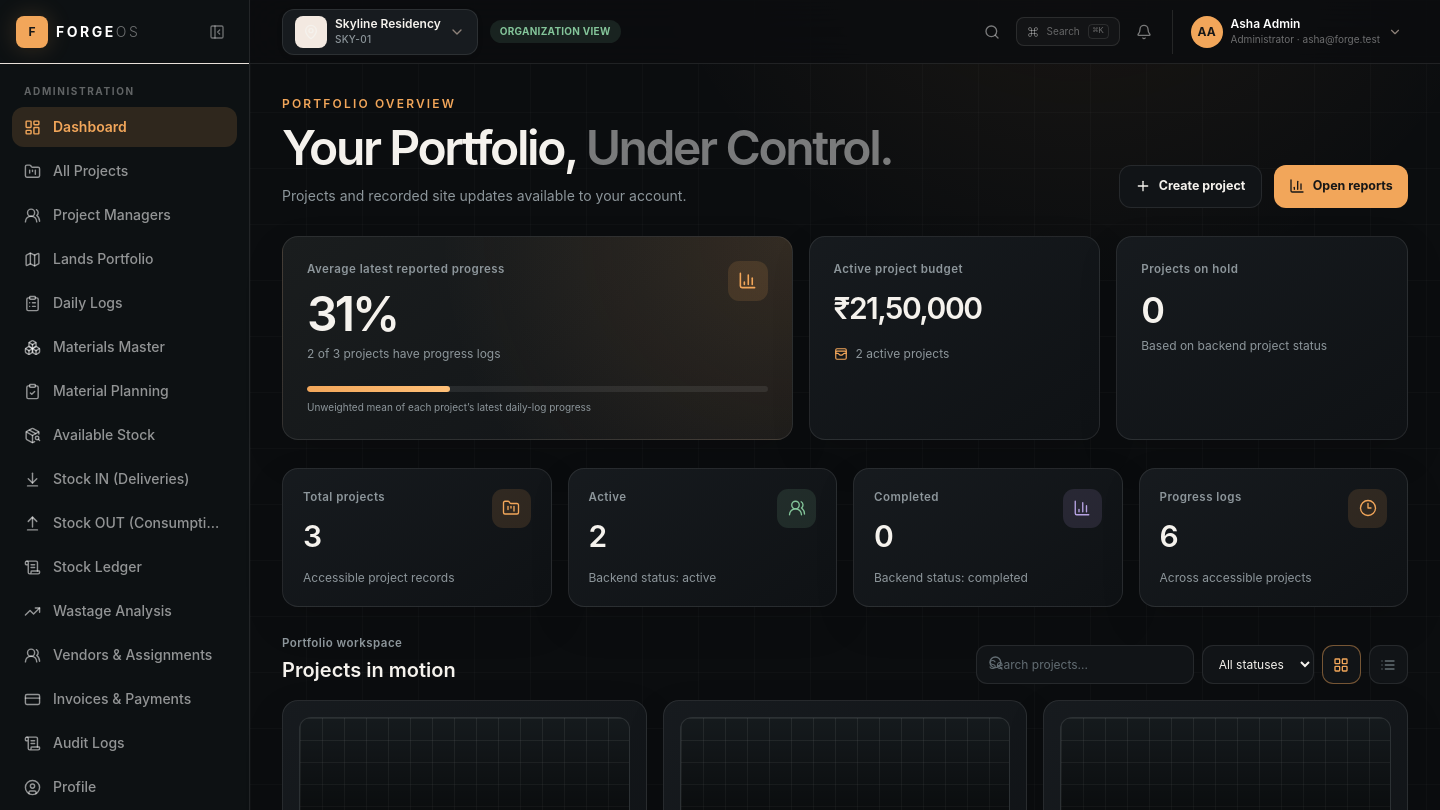
Scenario: AdminDashboardPage › the status filter and Clear filters work together
The image size is (1440, 810).
Select "Active" in the dropdown showing "All statuses" at [1258, 665], box [1202,645,1314,684]
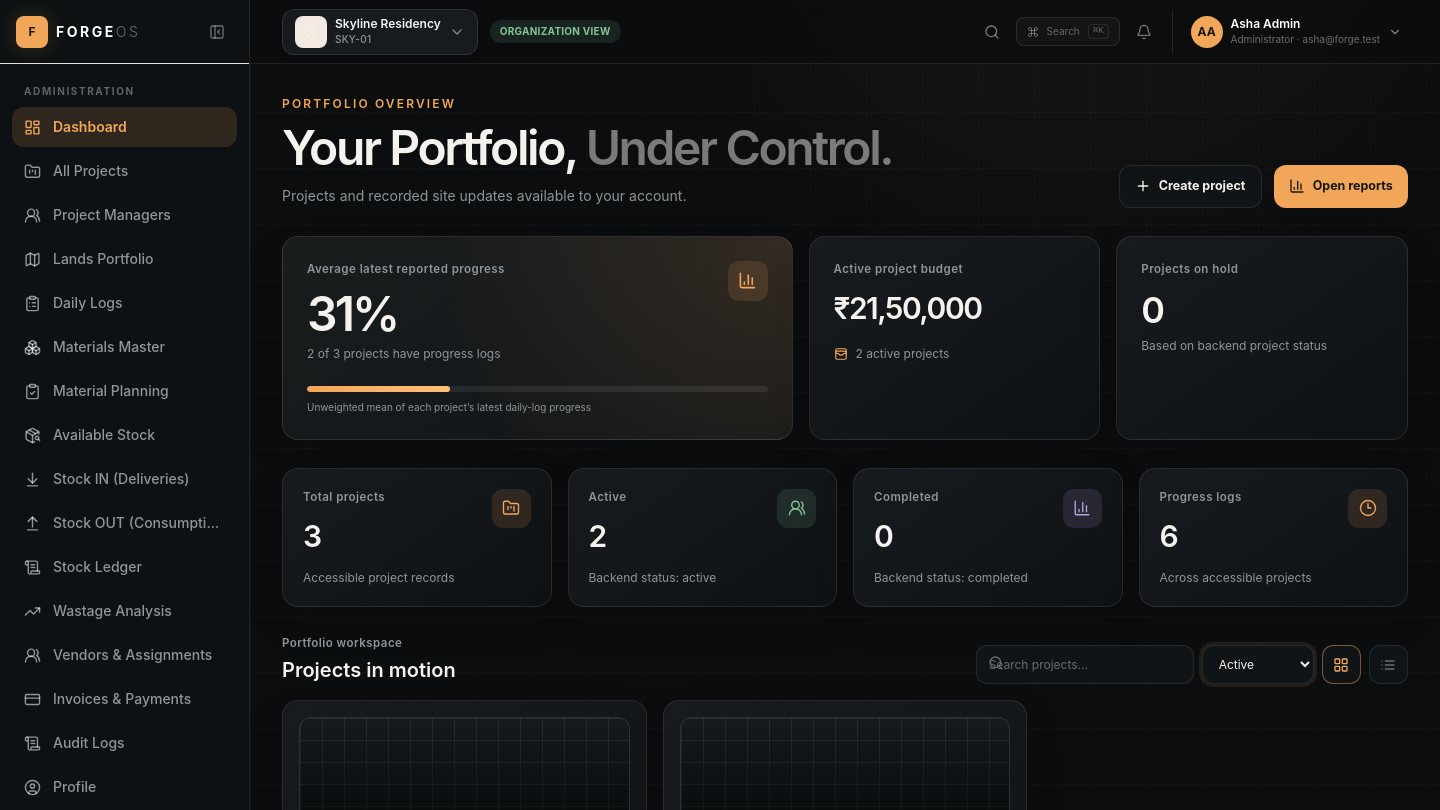
Expected: the heading "Harbour Gateway" is not shown
A query matching nothing shows the empty state with a reset action.
Type "zzz-no-match" into the field with placeholder "Search projects..." at [1085, 665], box [976,645,1194,684]
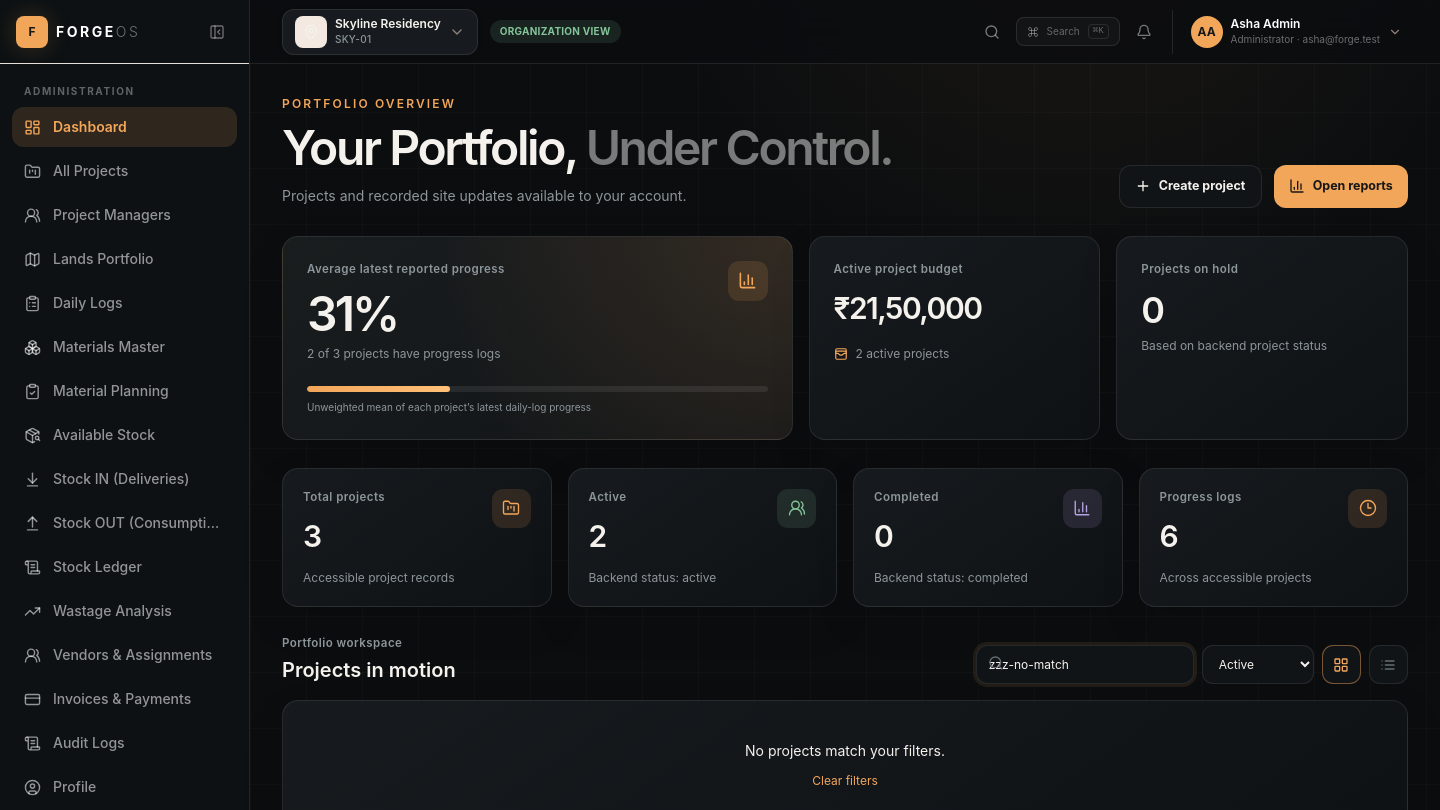
Result: the text "No projects match your filters." is shown at [745,742,945,759]
Click the button "Clear filters" at [845, 781], box [812,773,878,789]
(page scrolled)
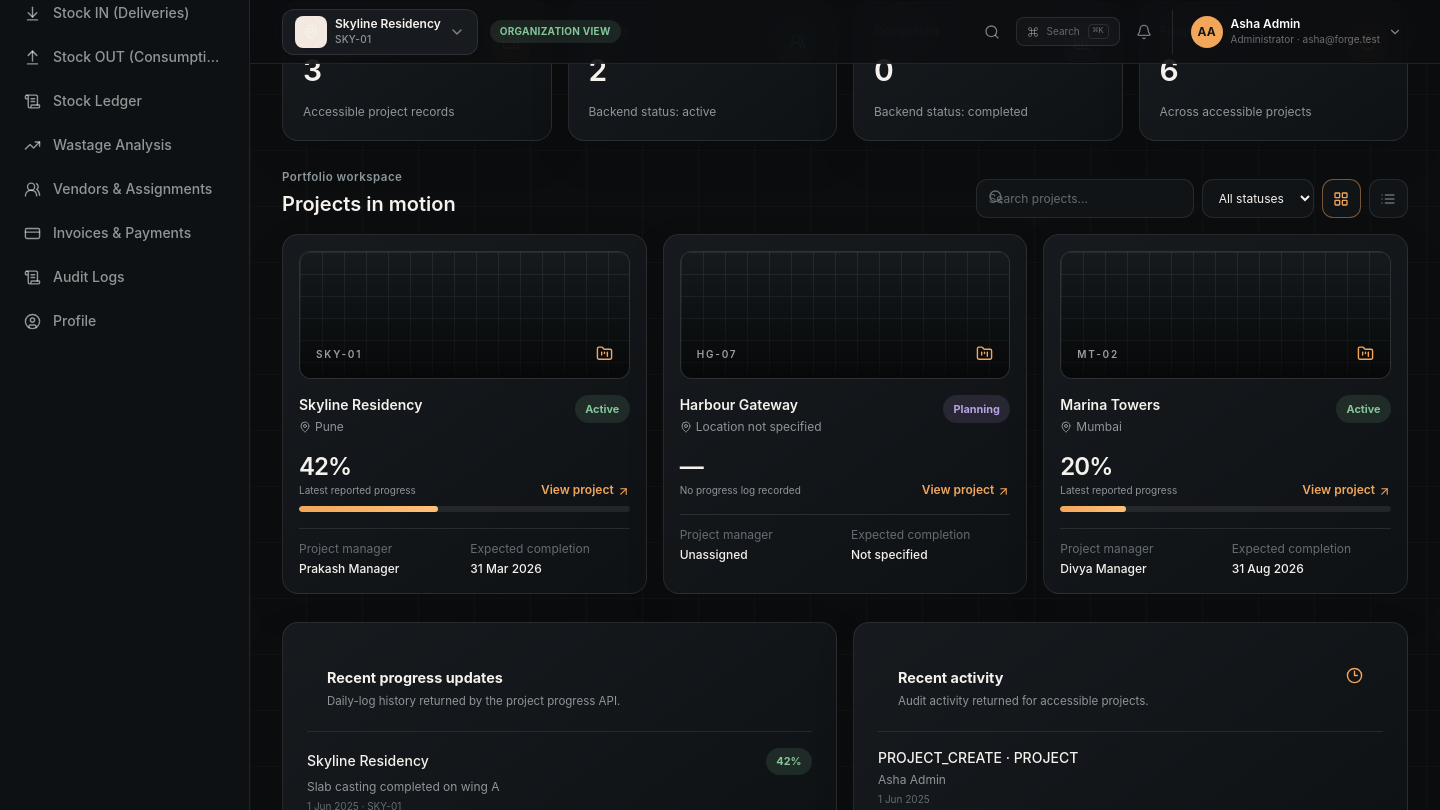
Result: the heading "Harbour Gateway" is shown at [680,396,798,413]
